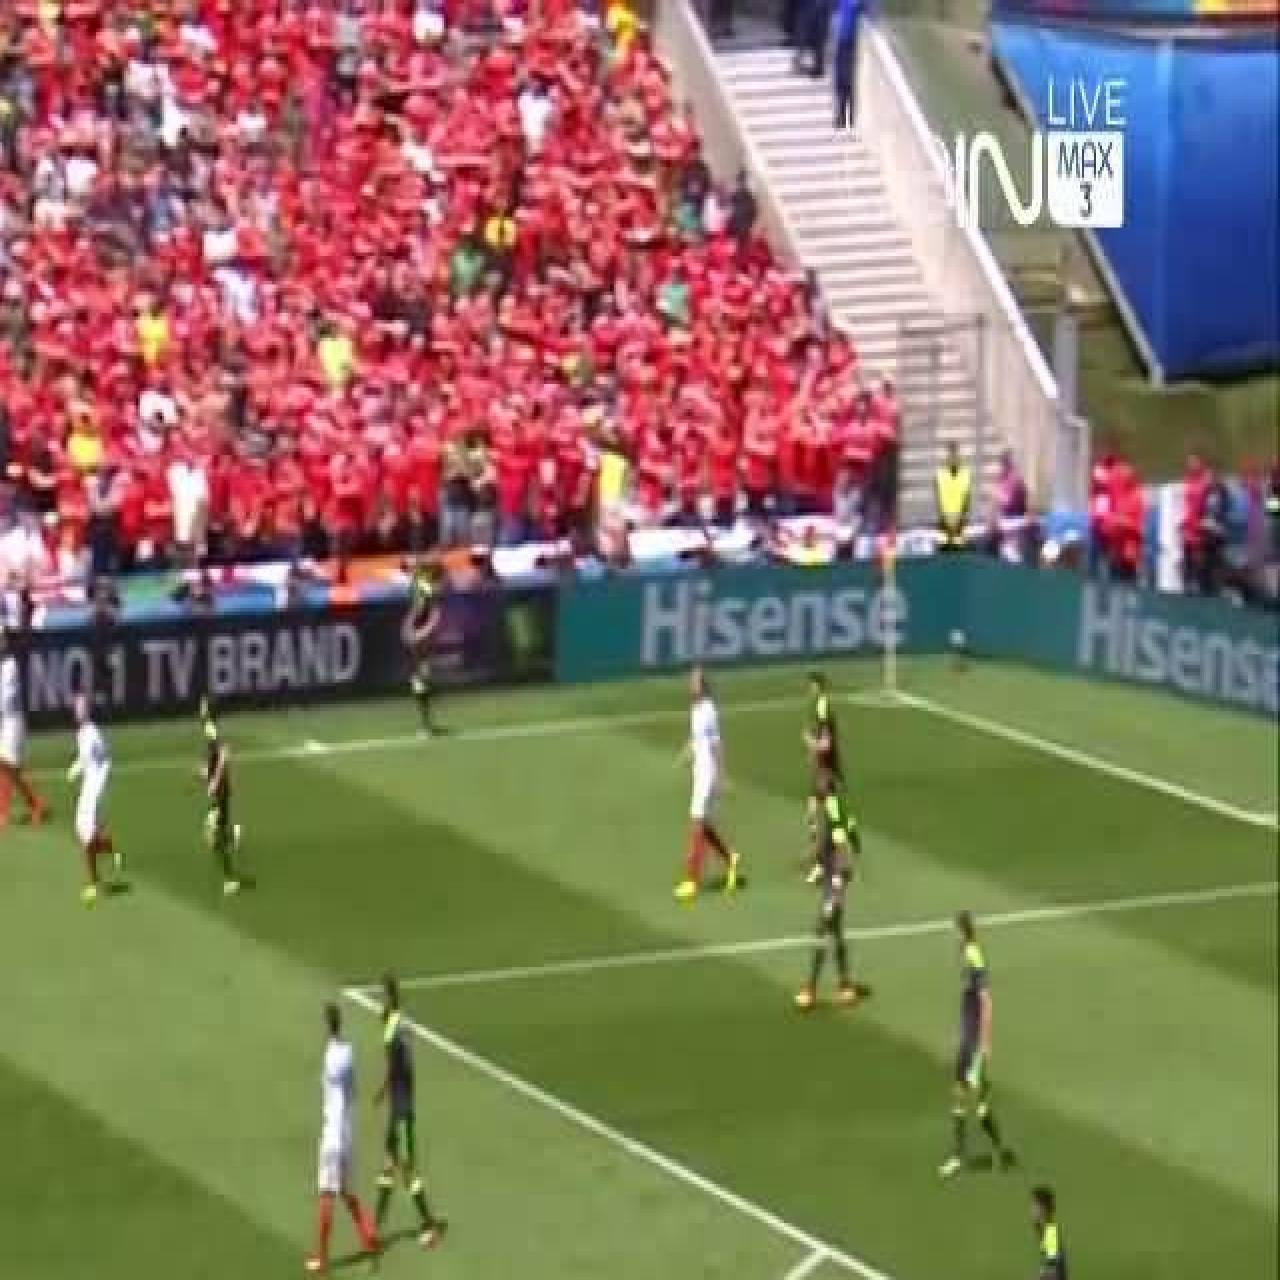football: (302, 999, 379, 1276), (370, 978, 442, 1257), (938, 907, 1002, 1175), (794, 771, 862, 1011), (676, 668, 738, 909), (67, 694, 123, 905), (990, 1184, 1088, 1280), (196, 690, 242, 893), (0, 629, 44, 832), (801, 674, 844, 874), (405, 570, 438, 744)
